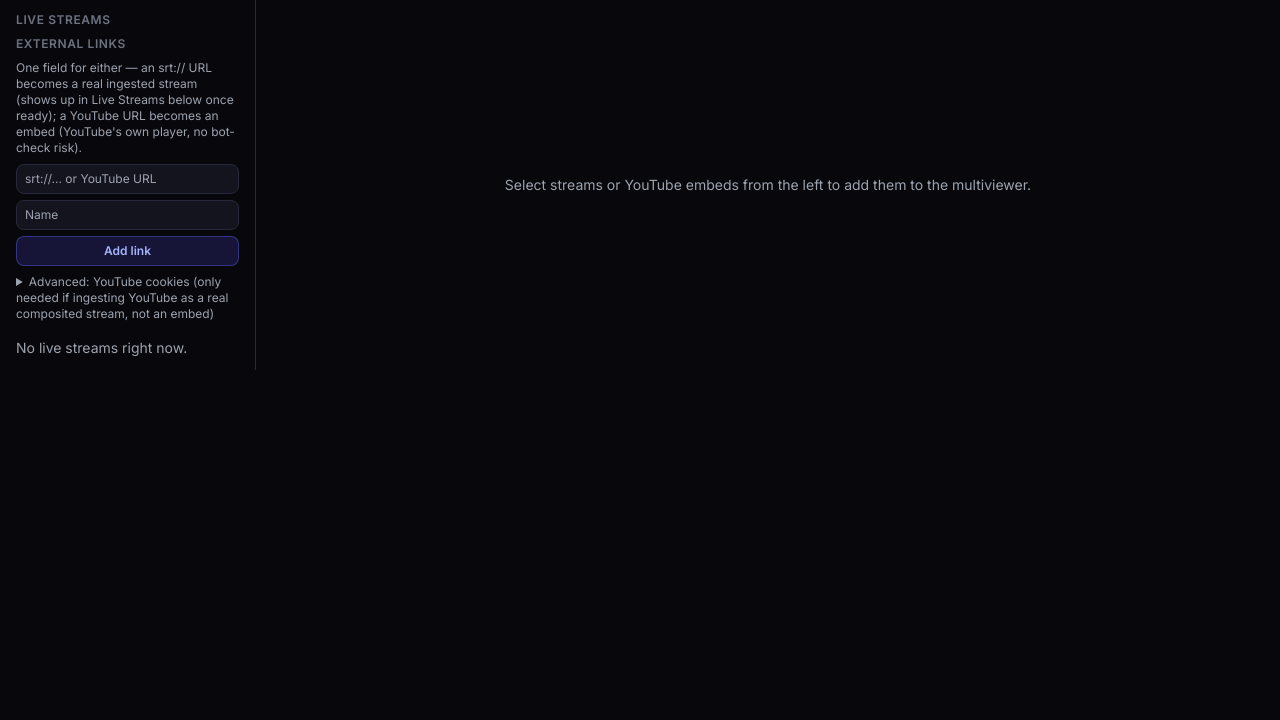
Scenario: MultiviewerPage › shows an error toast when clearing cookies fails
The image size is (1280, 720).
Click the heading "Advanced: YouTube cookies".
click(128, 298)  # box [12, 274, 243, 322]
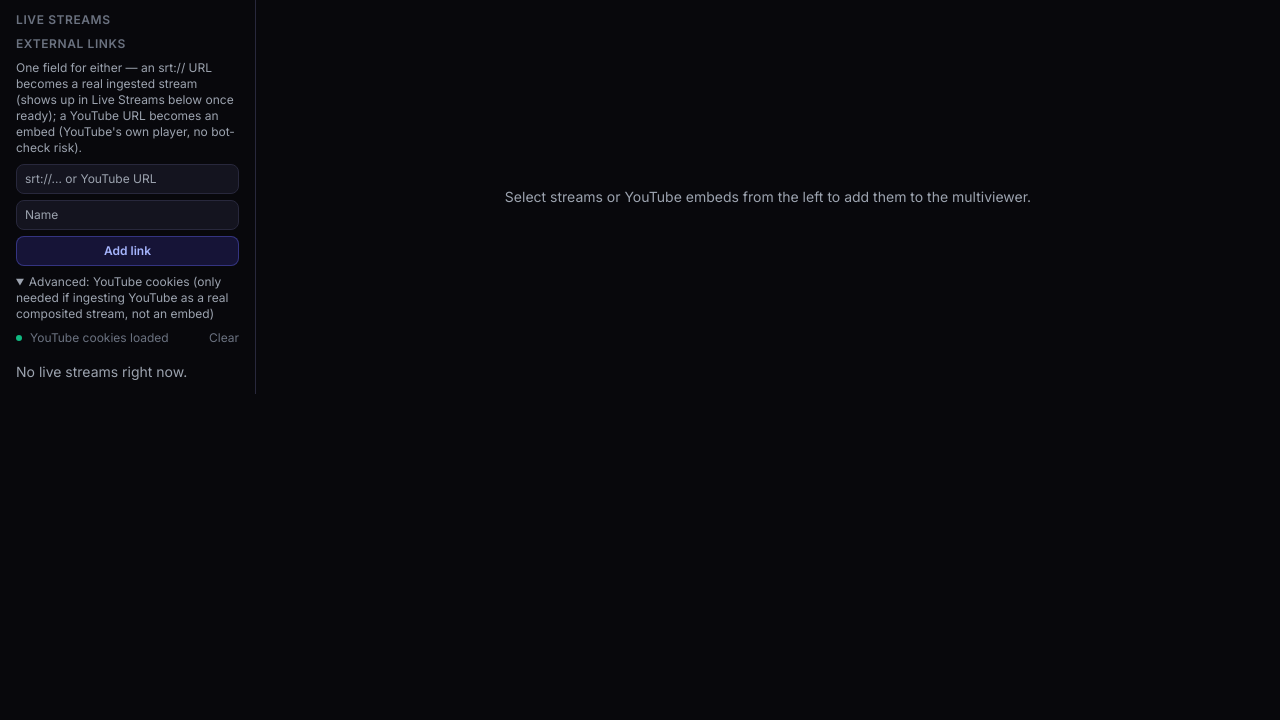
Click the button "Clear".
click(224, 338)  # box [209, 330, 239, 346]
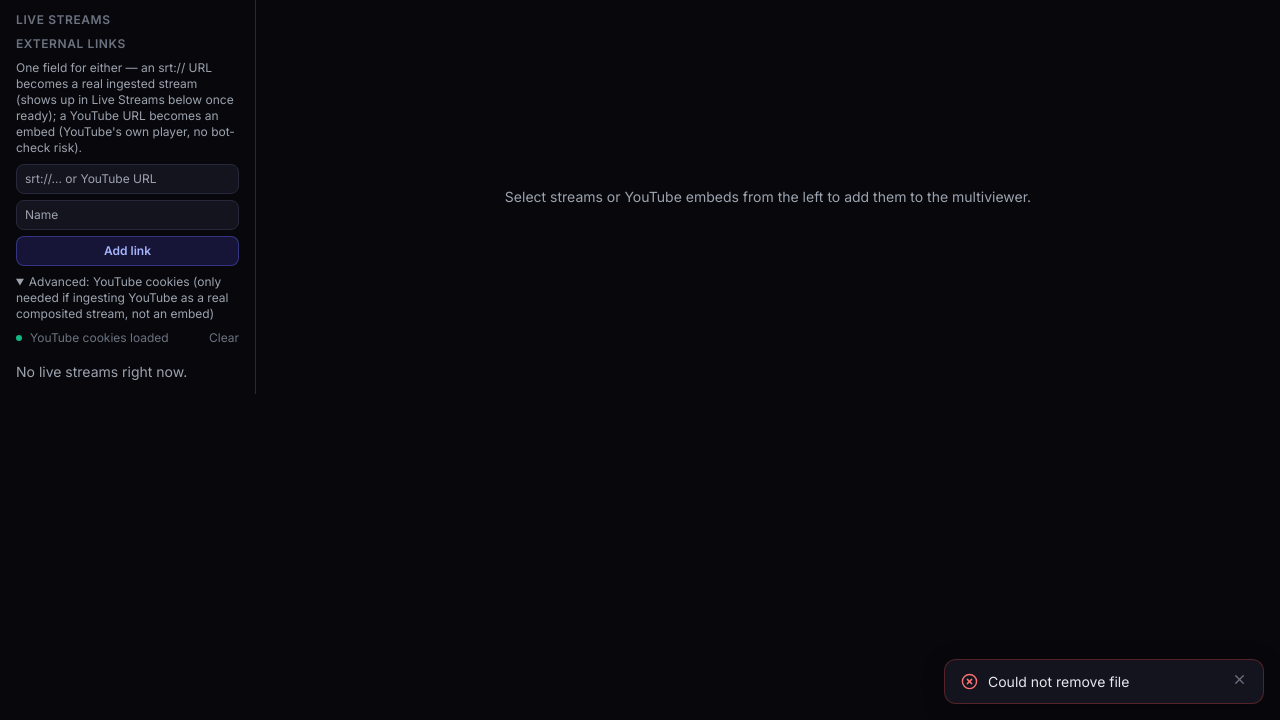
Now the text "Could not remove file" is shown, box [988, 673, 1129, 690]
